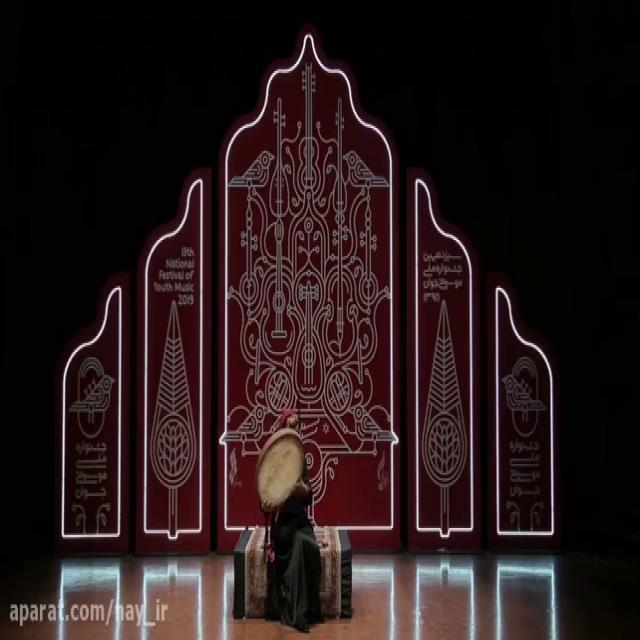Daf: (252, 429, 304, 512)
